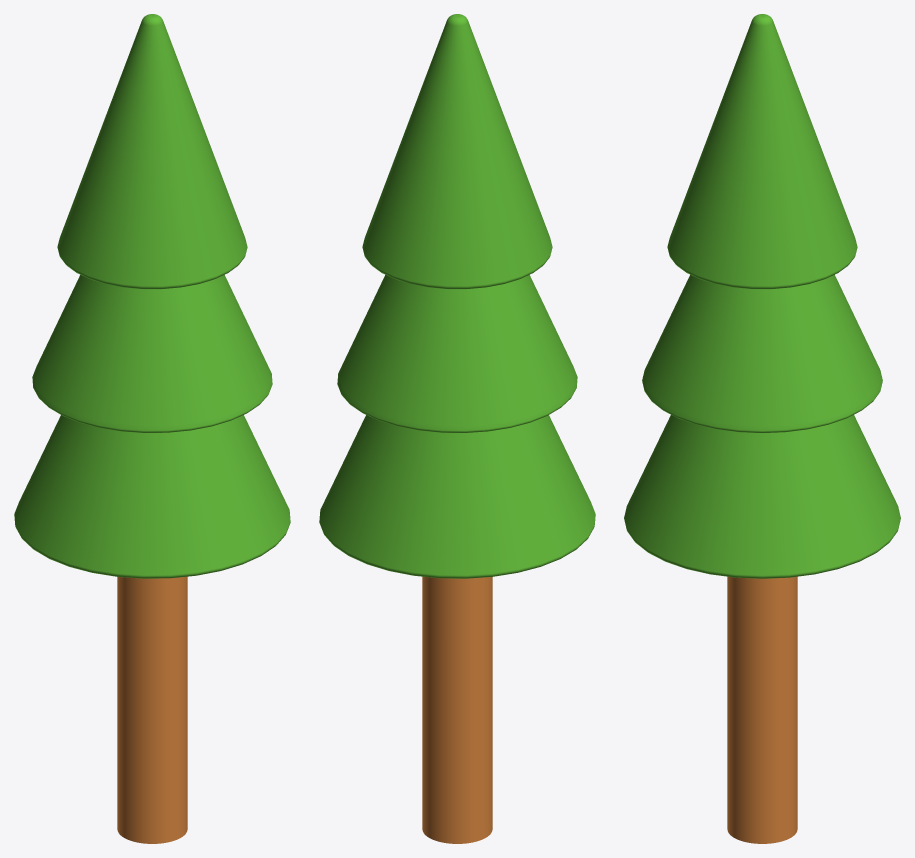
3 renders of one model, left to right at view 1: azimuth 30°, elevation 25°; view 2: azimuth 150°, elevation 25°; view 3: azimuth 270°, elevation 25°, orthographic.
Visible parts, largest first — view 1: Cone, Cone 3, Cone 2, trunk; view 2: Cone, Cone 3, Cone 2, trunk; view 3: Cone, Cone 3, Cone 2, trunk.
Boxes of the visible parts, x1,y1,x2,y2 form: Cone: (14,415,290,578); Cone 3: (57,14,247,289); Cone 2: (32,275,272,432); trunk: (117,576,187,843); Cone: (319,415,595,578); Cone 3: (362,14,552,289); Cone 2: (337,275,577,432); trunk: (422,576,492,843); Cone: (624,415,900,578); Cone 3: (667,14,857,289); Cone 2: (642,274,882,433); trunk: (727,576,797,843).
Size of the model in its own units: 1.58 by 5.12 by 1.58.
